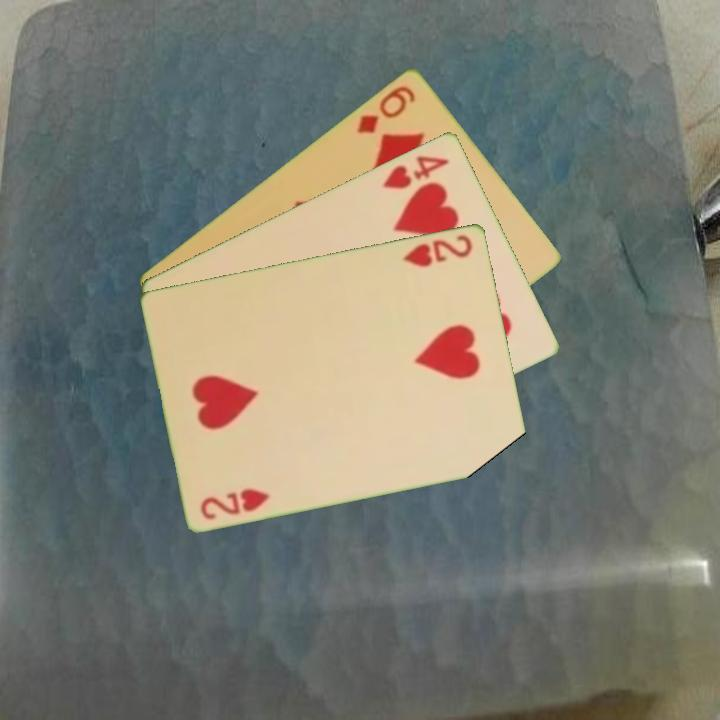2h: (399, 230, 476, 270), (197, 484, 274, 522)
4h: (379, 151, 453, 192)
6d: (353, 81, 418, 136)
